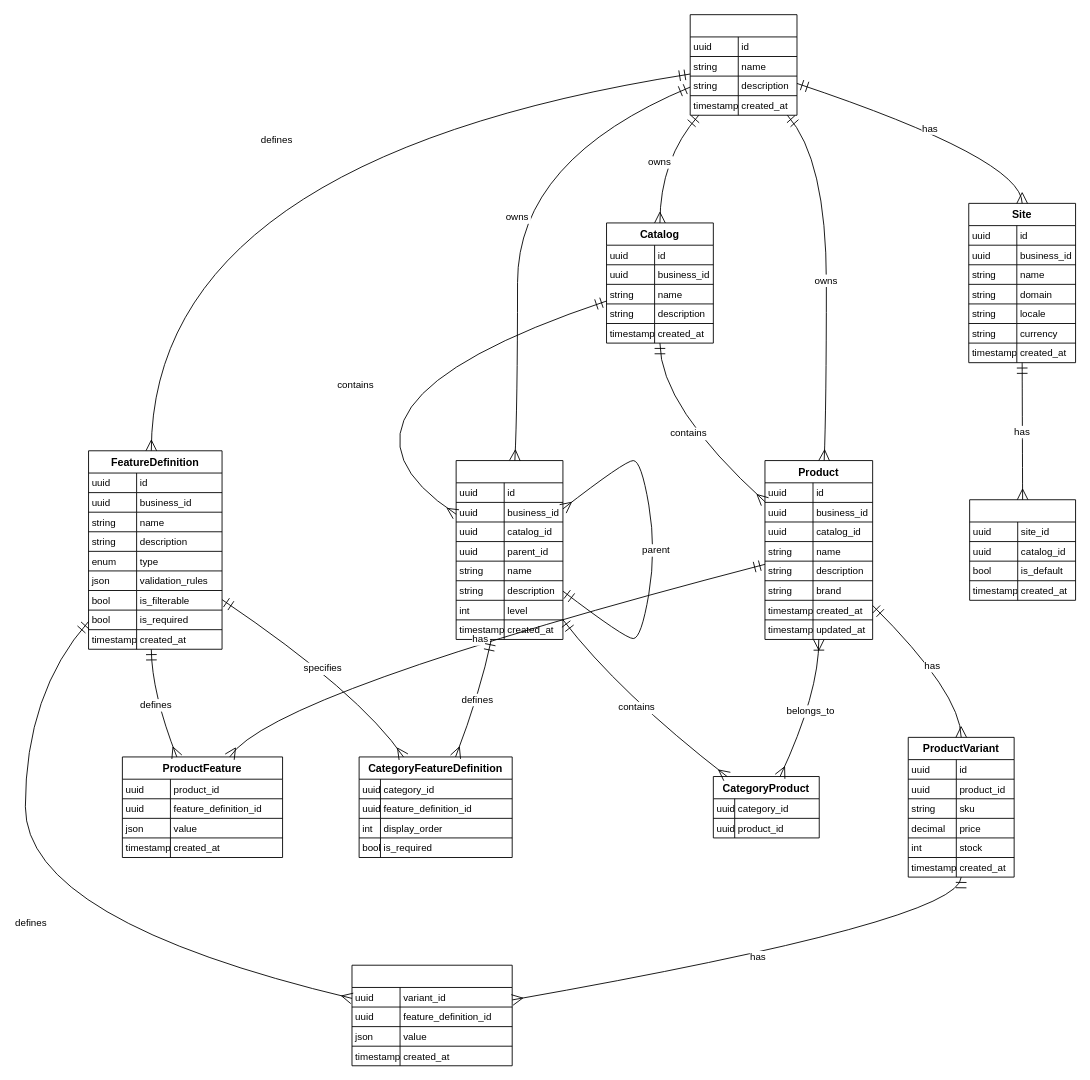
This 1090x1080 diagram has some shape labels left out. The shapes that lost their labels are listed below. From the top down, each one's box as (x1, y1, x2, y2) in pixels, then its label:
(689, 14, 797, 115): Business
(455, 460, 563, 639): Category
(969, 499, 1076, 600): SiteCatalog
(351, 964, 512, 1066): VariantFeature
